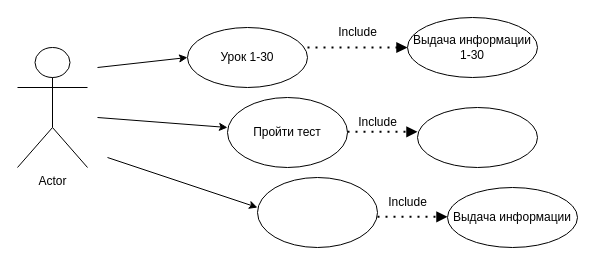
Some shapes in this 595 by 265 pixel diagram are drawn without their labels. Each missing label, with the centre of its shape:
Выдача результата: pixel 477 137
Теория: pixel 317 212
